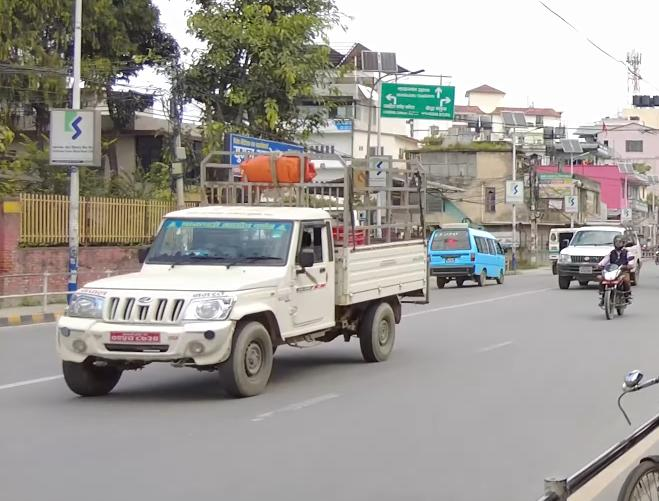bike: (591, 237, 637, 319)
car: (544, 220, 642, 286)
micro_bus: (421, 209, 512, 296)
transport_vehicle: (47, 144, 433, 407)
